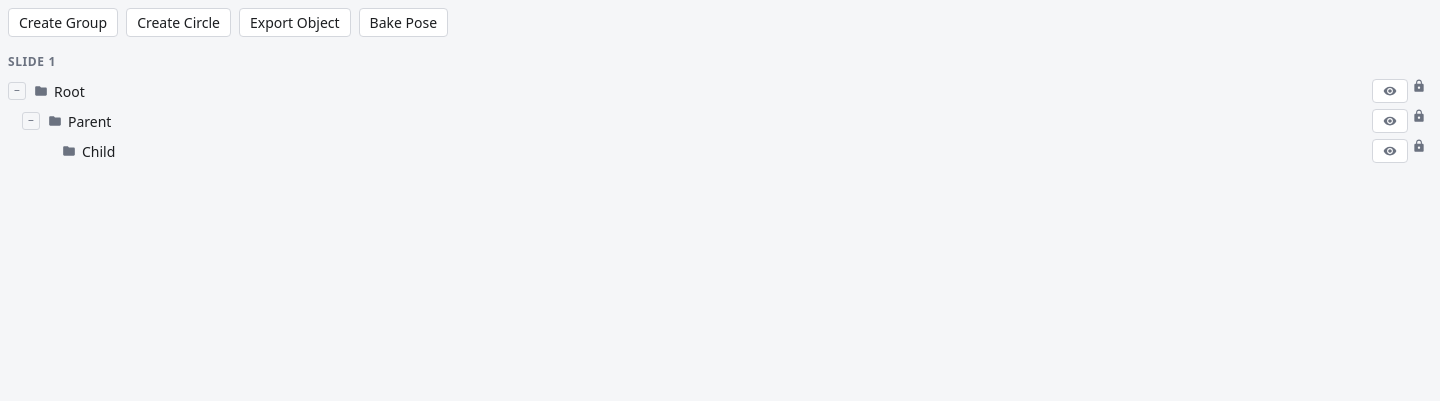
Test: Animation Manager shell – 15-01 › shows Animation Manager entry for group nodes even when subtree has no Animated Child
Right-click the list item "Parent" at (90, 121), box [42,106,1432,136]
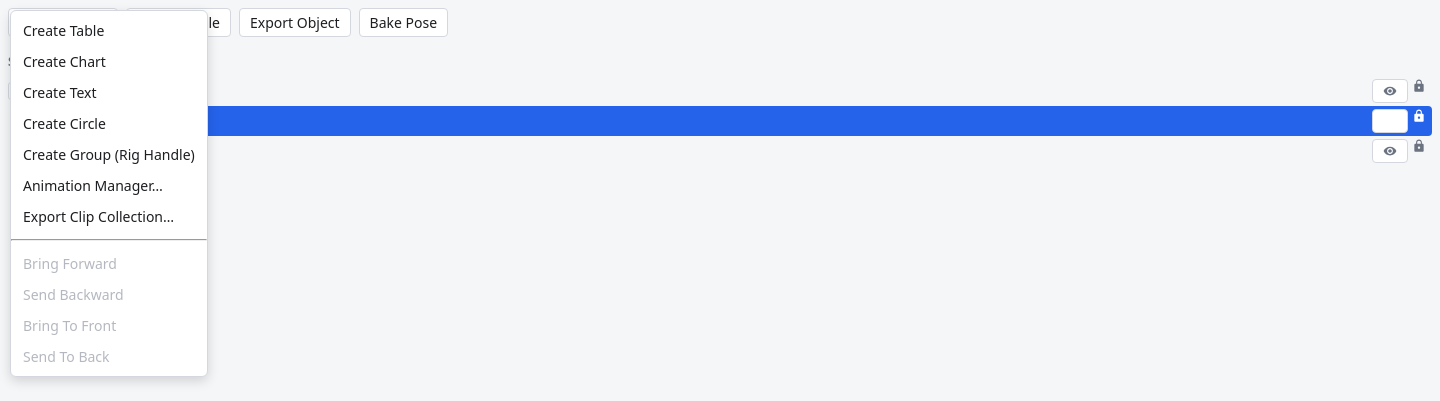
Expected: the menu item "Animation Manager…" is shown, [11,170,207,201]
